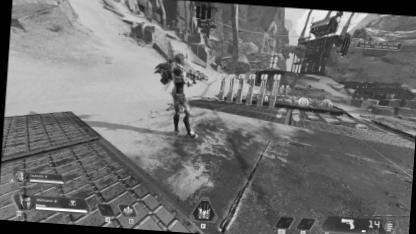Target: (162, 51, 199, 139)
